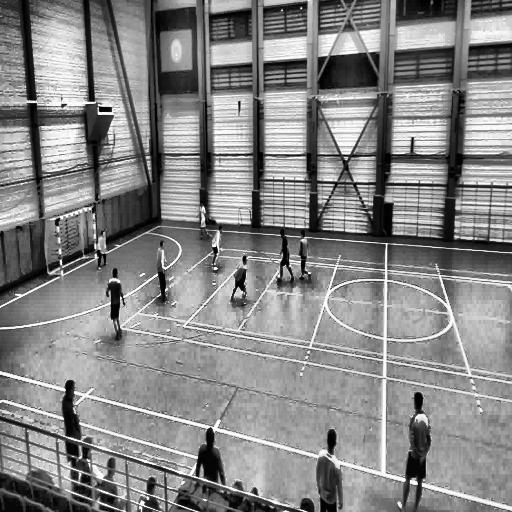ball: (277, 274, 282, 282)
player: (398, 392, 430, 512), (318, 429, 344, 512), (62, 383, 81, 468), (106, 267, 126, 340), (276, 228, 293, 283), (232, 254, 249, 305), (156, 240, 168, 304), (300, 231, 312, 280), (212, 225, 223, 272), (96, 229, 107, 270), (199, 204, 210, 239)
